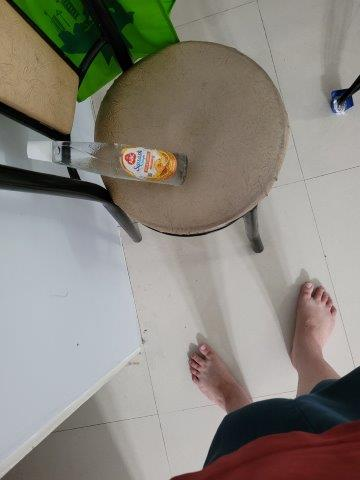botolkaca: (25, 141, 188, 187)
